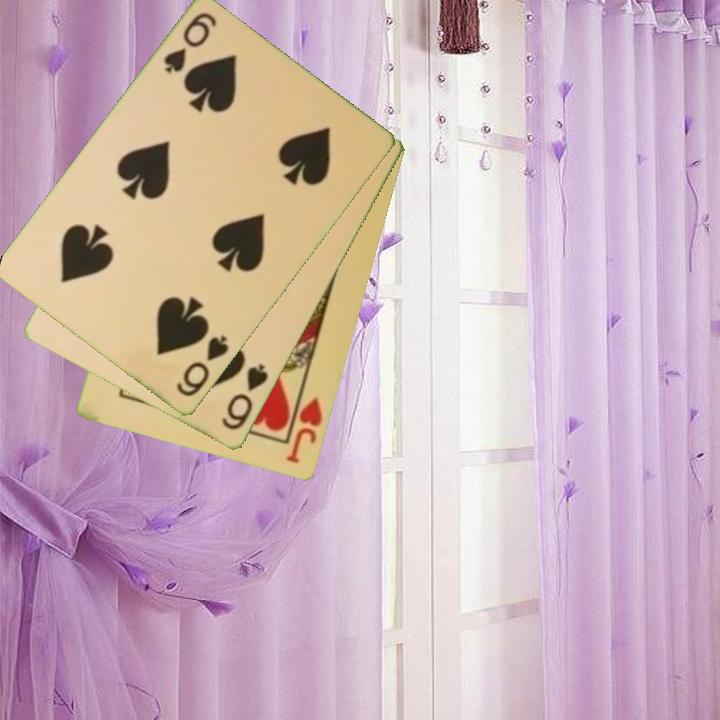6s: (160, 9, 220, 77), (173, 332, 232, 401), (217, 361, 272, 434)
Jh: (282, 383, 326, 467)
